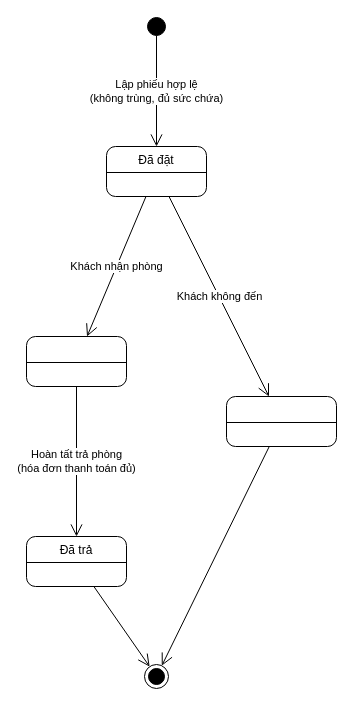
Some shapes in this 355 by 706 pixel diagram are drawn without their labels. The shapes that lost their labels are listed below. From the top down, each one's centre as x and y in pixels, then its label:
[76,361]: Đang ở
[281,421]: No-show
